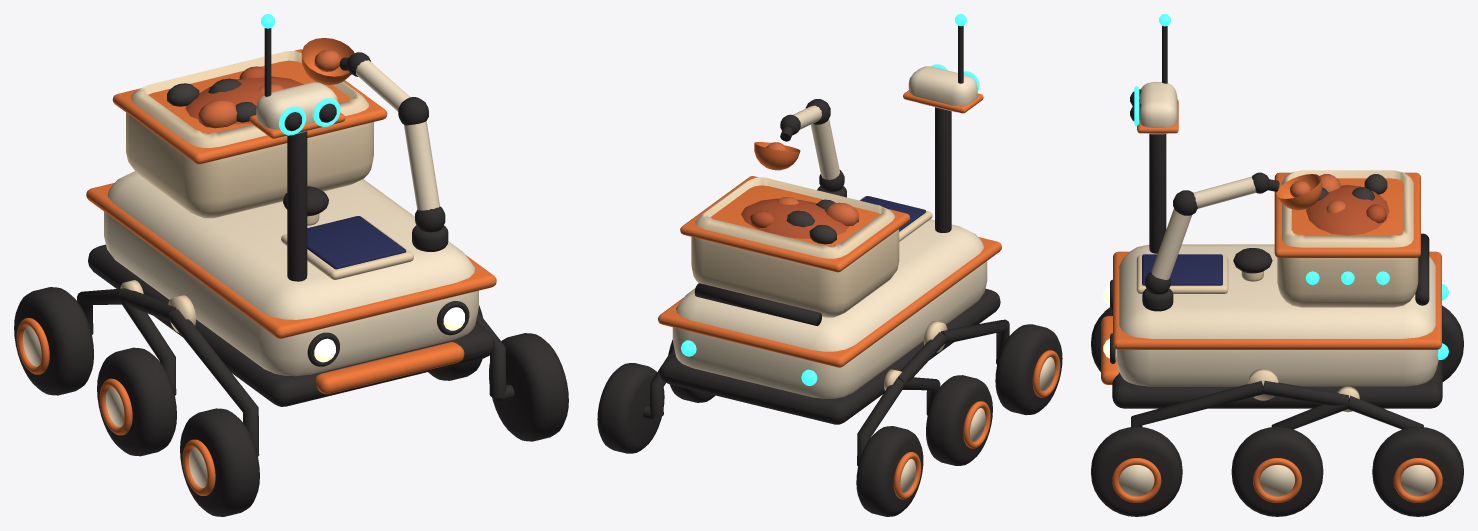
File: rover.glb
3 renders of one model, left to right at view 1: azimuth 30°, elevation 25°; view 2: azimuth 150°, elevation 25°; view 3: azimuth 270°, elevation 25°, orthographic. The views are drawn at different scales.
Visible parts, largest first — view 1: Cube, Cube.001, Cube.002, Cube.004, Cube.008, Sphere.004, Sphere.005, Sphere.006, Sphere.001, Sphere; view 2: Cube, Cube.001, Cube.004, Cube.002, Sphere.004, Sphere.006, Sphere.005, Sphere.001, Cube.008; view 3: Cube.001, Cube, Cube.002, Cube.004, Sphere.004, Cube.008, Sphere.001, Sphere.005, Sphere.006.
Part boxes in pixels (box(x1,y1,x2,y2)): Cube: box(14, 28, 568, 516); Cube.001: box(23, 60, 478, 487); Cube.002: box(16, 38, 496, 495); Cube.004: box(120, 51, 413, 332); Cube.008: box(307, 216, 406, 269); Sphere.004: box(185, 66, 303, 124); Sphere.005: box(198, 49, 341, 128); Sphere.006: box(167, 78, 256, 122); Sphere.001: box(261, 14, 340, 135); Sphere: box(314, 307, 464, 362); Cube: box(597, 25, 1062, 516); Cube.001: box(672, 66, 1054, 492); Cube.004: box(691, 177, 947, 390); Cube.002: box(658, 90, 1060, 499); Sphere.004: box(741, 198, 848, 238); Sphere.006: box(786, 199, 836, 244); Sphere.005: box(766, 142, 858, 226); Sphere.001: box(681, 14, 979, 385); Cube.008: box(860, 196, 925, 231); Cube.001: box(1116, 82, 1438, 496); Cube: box(1091, 26, 1463, 516); Cube.002: box(1101, 99, 1442, 502); Cube.004: box(1136, 170, 1418, 412); Sphere.004: box(1306, 185, 1389, 235); Cube.008: box(1142, 254, 1222, 285); Sphere.001: box(1134, 14, 1448, 359); Sphere.005: box(1290, 174, 1345, 213); Sphere.006: box(1318, 174, 1387, 200).
Size of the model in its own units: 0.498 by 0.624 by 0.53.
